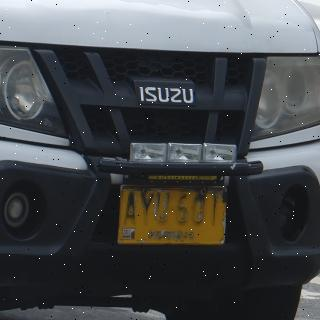license: (119, 186, 227, 246)
